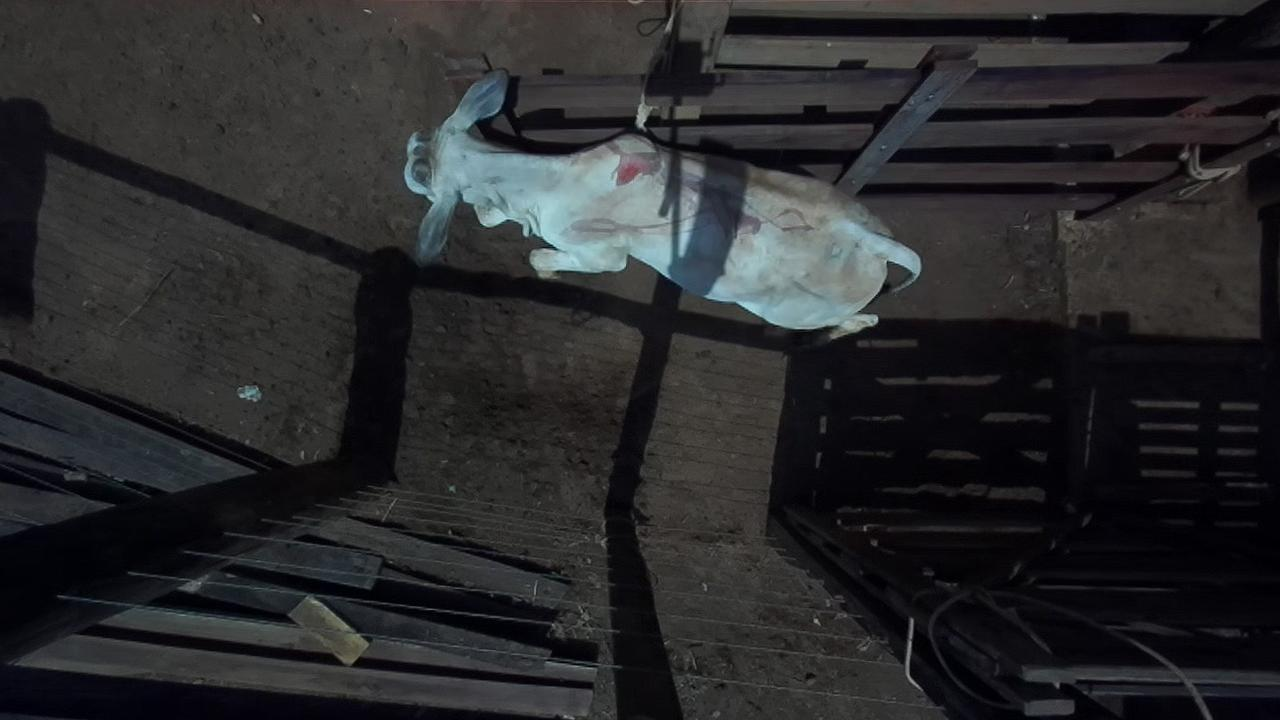cattle: (402, 67, 923, 342)
